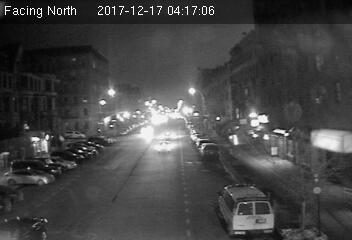police: (216, 182, 277, 234)
